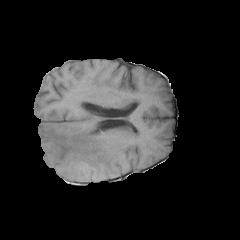glioma: (38, 123, 131, 181)
